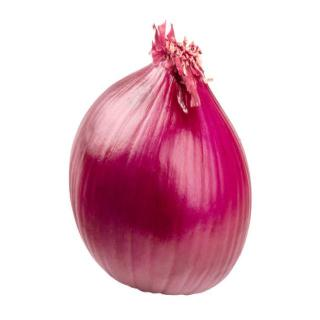Bawang Merah: (67, 20, 257, 301)
